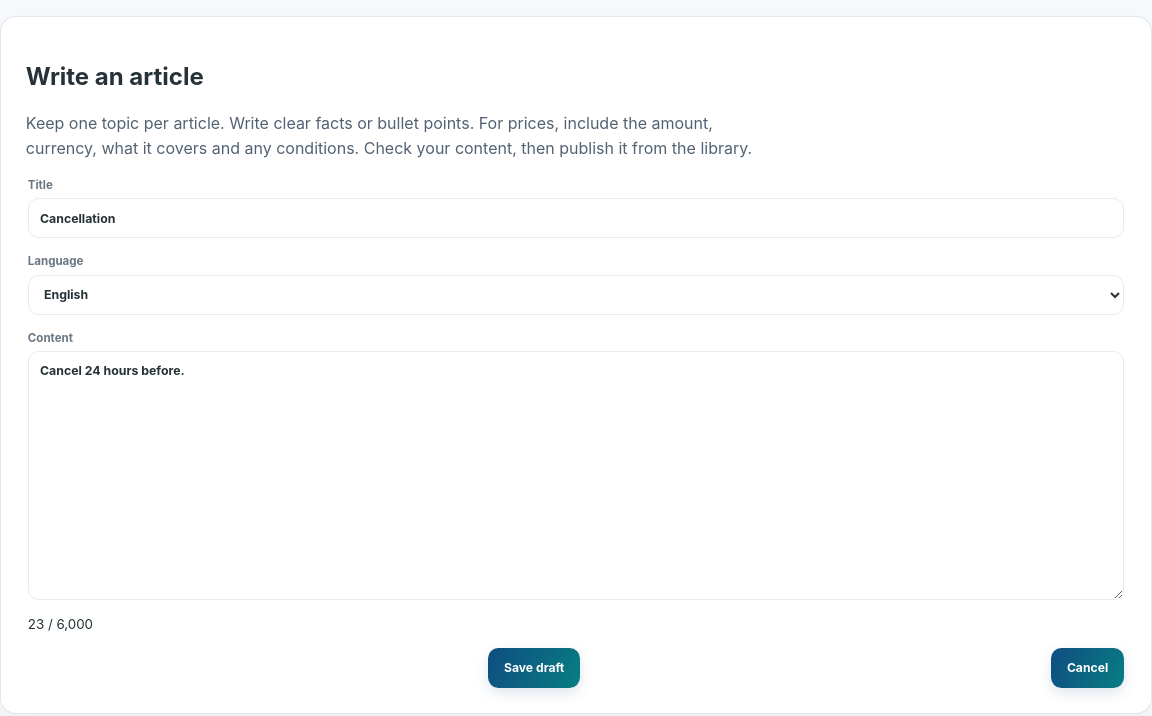
Test: structured knowledge editor › keeps the draft open and displays save conflicts
The image size is (1152, 716).
Click the button "Save draft" at (534, 668), box [488,648,580,688]
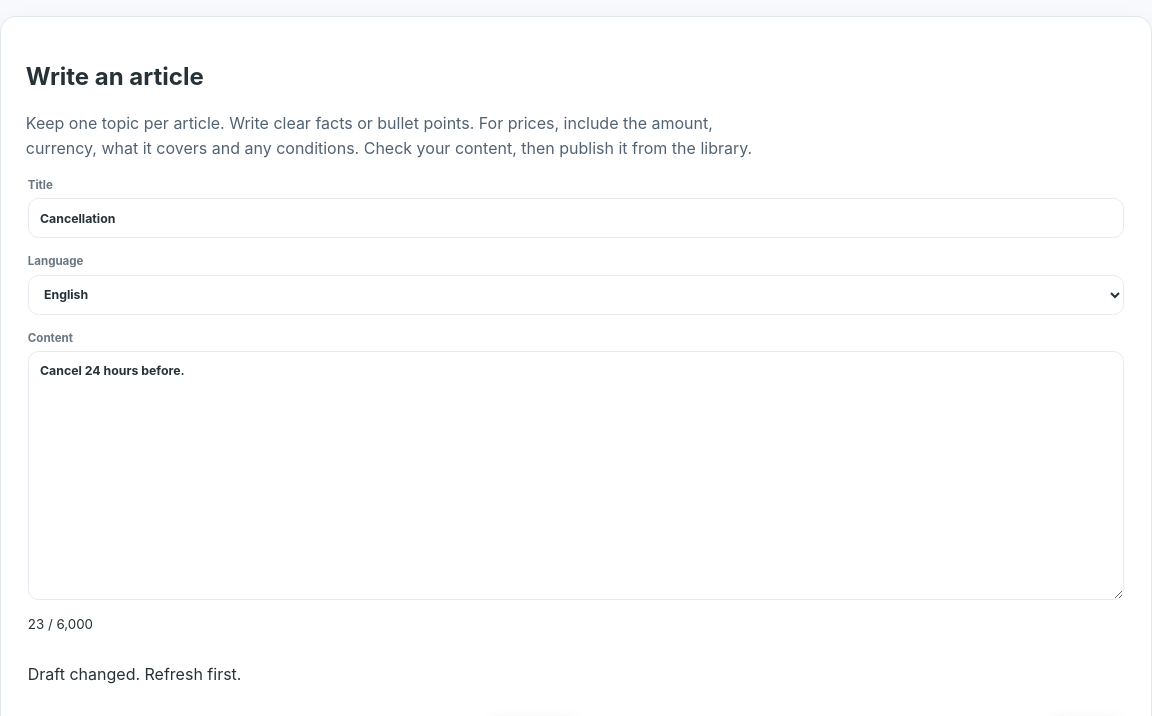
Check: the message reads "Draft changed. Refresh first.", box [28,664,242,684]
